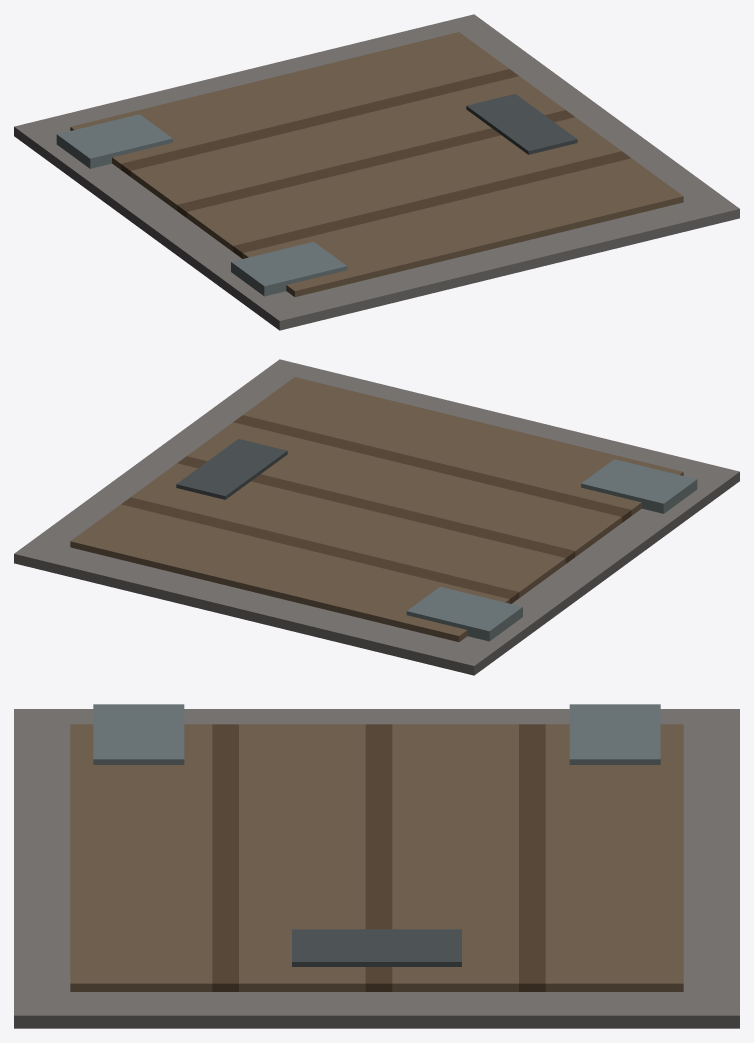
File: SD_Prop_Trapdoor_01.fbx
3 renders of one model, top to bottom at view 1: azimuth 30°, elevation 25°; view 2: azimuth 150°, elevation 25°; view 3: azimuth 270°, elevation 25°, orthographic. The views are drawn at different scales.
Visible parts, largest first — view 1: SD_Prop_Trapdoor_01; view 2: SD_Prop_Trapdoor_01; view 3: SD_Prop_Trapdoor_01.
Part boxes in pixels (bbox=[...]): SD_Prop_Trapdoor_01: bbox=[14, 14, 739, 330]; SD_Prop_Trapdoor_01: bbox=[14, 359, 739, 675]; SD_Prop_Trapdoor_01: bbox=[14, 704, 739, 1028].
Bounding box in the file's own units: 1.68 × 0.069 × 1.68.
